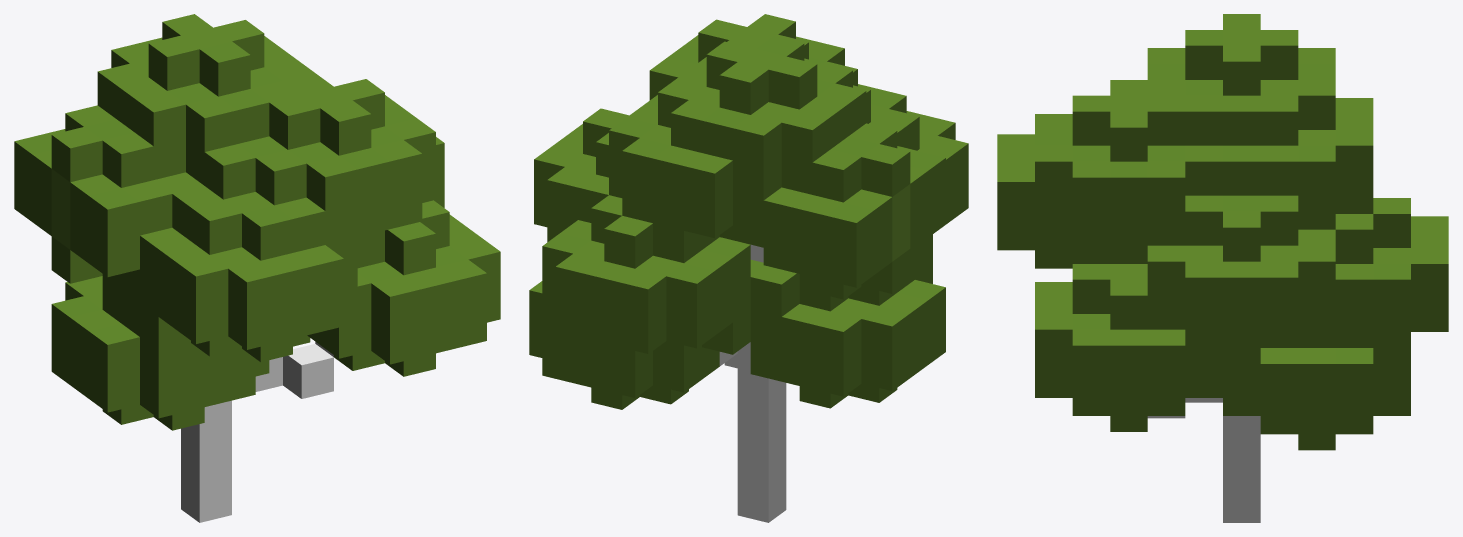
File: EnvTree2.fbx
3 renders of one model, left to right at view 1: azimuth 30°, elevation 25°; view 2: azimuth 150°, elevation 25°; view 3: azimuth 270°, elevation 25°, orthographic. The views are drawn at different scales.
Visible parts, largest first — view 1: EnvTree2; view 2: EnvTree2; view 3: EnvTree2.
Part boxes in pixels (box(x1,y1,x2,y2)): EnvTree2: box(14, 14, 500, 522); EnvTree2: box(529, 14, 968, 522); EnvTree2: box(997, 14, 1448, 522).
Bounding box in the file's own units: 1100 × 1400 × 1200.
